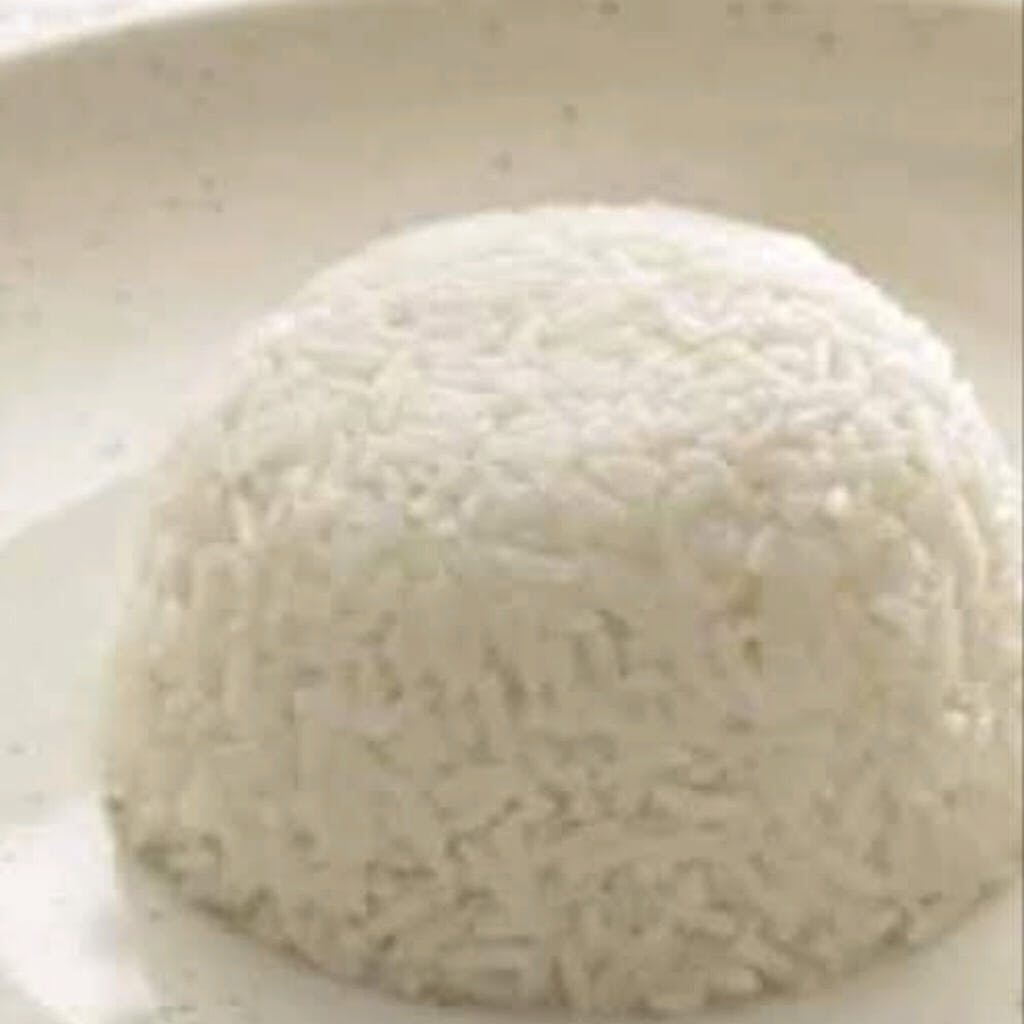Nasi Putih: (100, 217, 963, 949)
